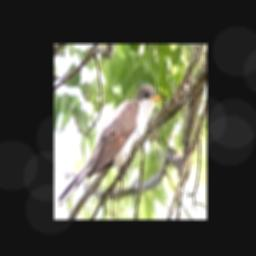Cuckoo: (58, 85, 165, 207)
